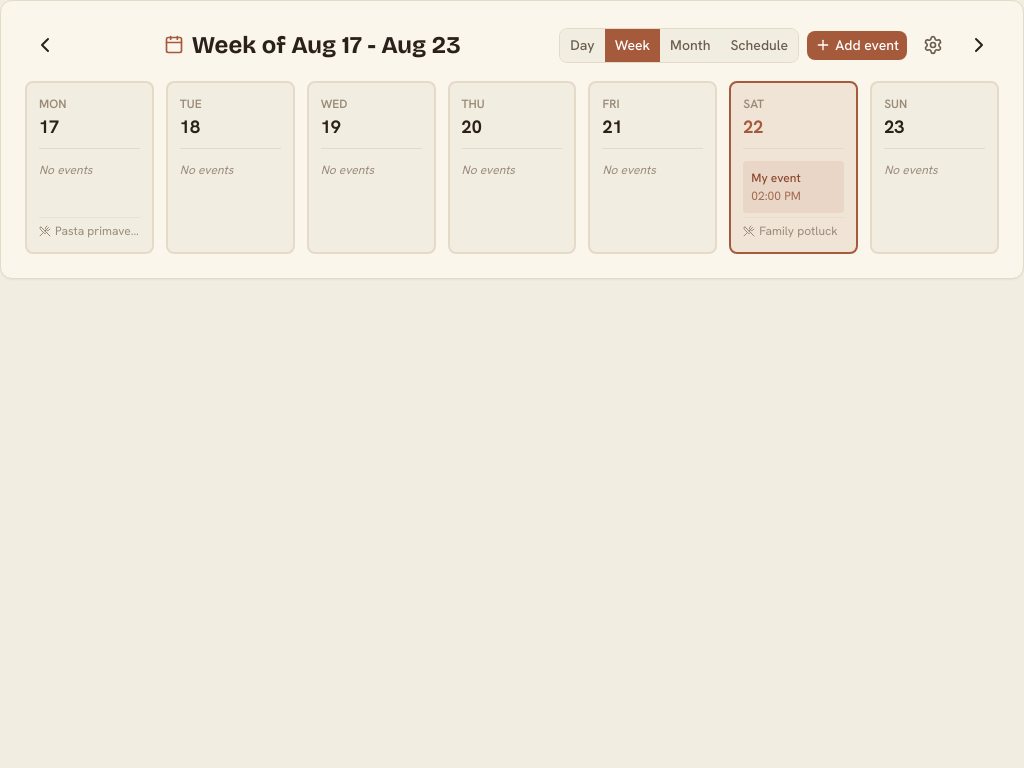
Test: WeekCalendar — interactions › event management › shows Edit/Delete only on the creator's own feature-created event
This screenshot has width=1024, height=768.
Click the text "My event": (776, 178) [751, 169, 801, 187]
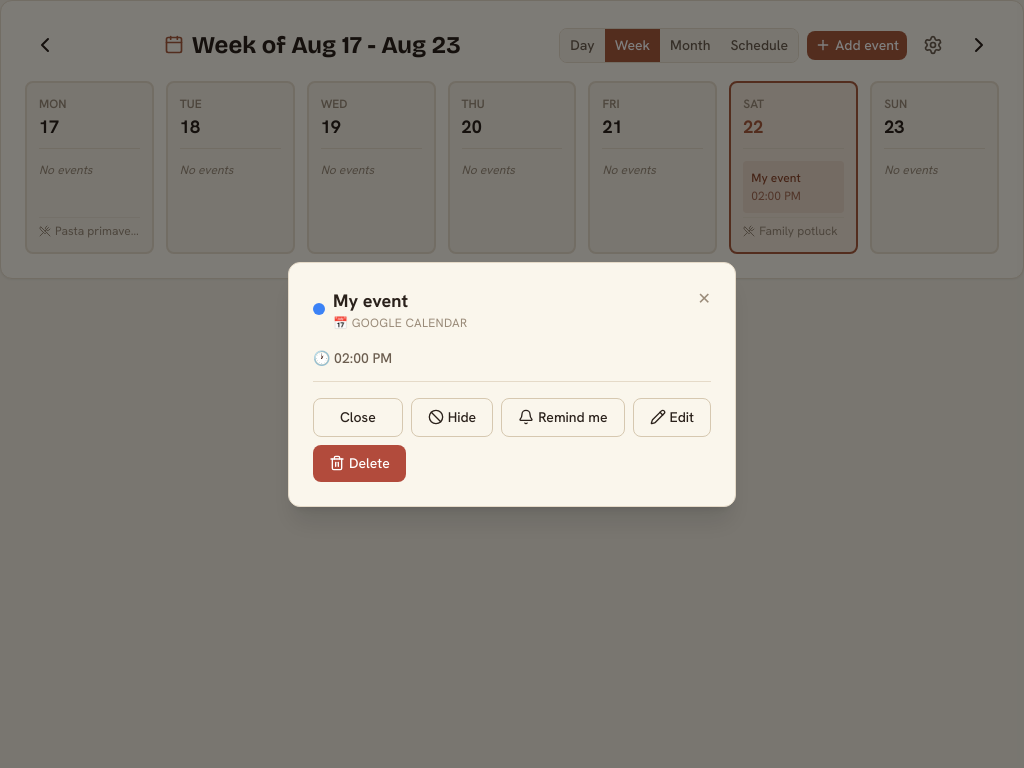
Check: the button "Edit" is shown, box [633, 398, 711, 436]
Check: the button "Delete" is shown, box [313, 444, 406, 482]
